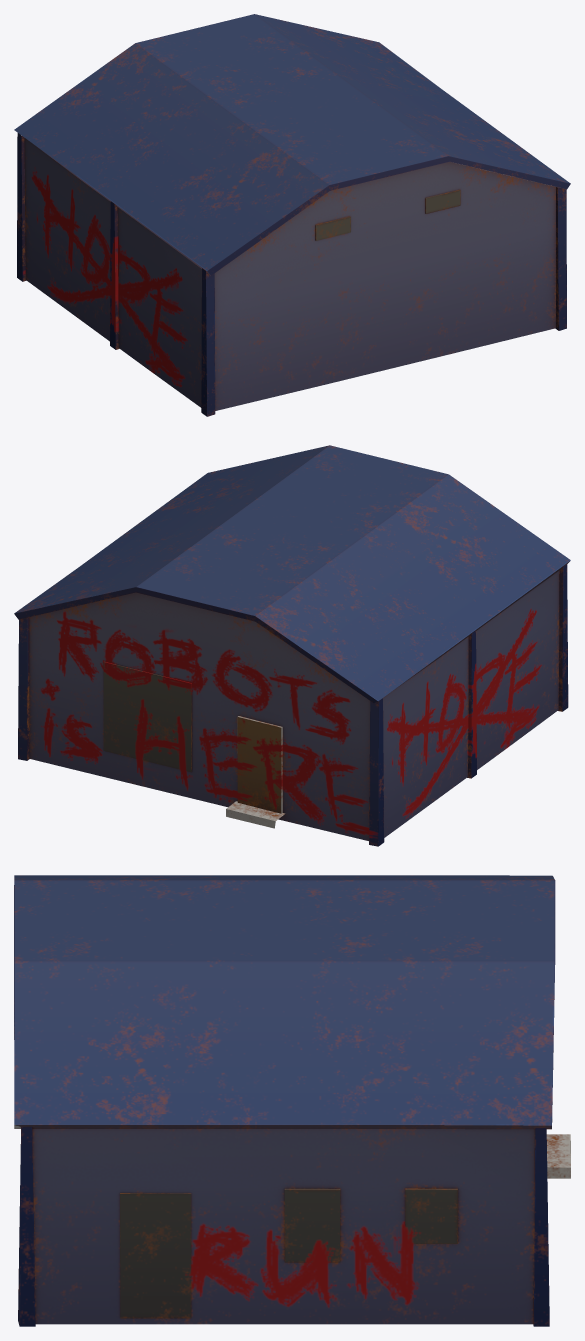
The model's file is Build7.glb.
The picture shows the model from 3 angles, top to bottom: view 1: azimuth 30°, elevation 25°; view 2: azimuth 150°, elevation 25°; view 3: azimuth 270°, elevation 25°; orthographic projection. The views are drawn at different scales.
Visible parts, largest first — view 1: Build2; view 2: Build2; view 3: Build2.
Part boxes in pixels (x1,y1,x2,y2): Build2: [14, 14, 570, 416]; Build2: [14, 445, 570, 846]; Build2: [14, 875, 570, 1326].
Size of the model in its own units: 14.64 by 7.79 by 13.88.
Materials: 1 (1 with a texture image).
